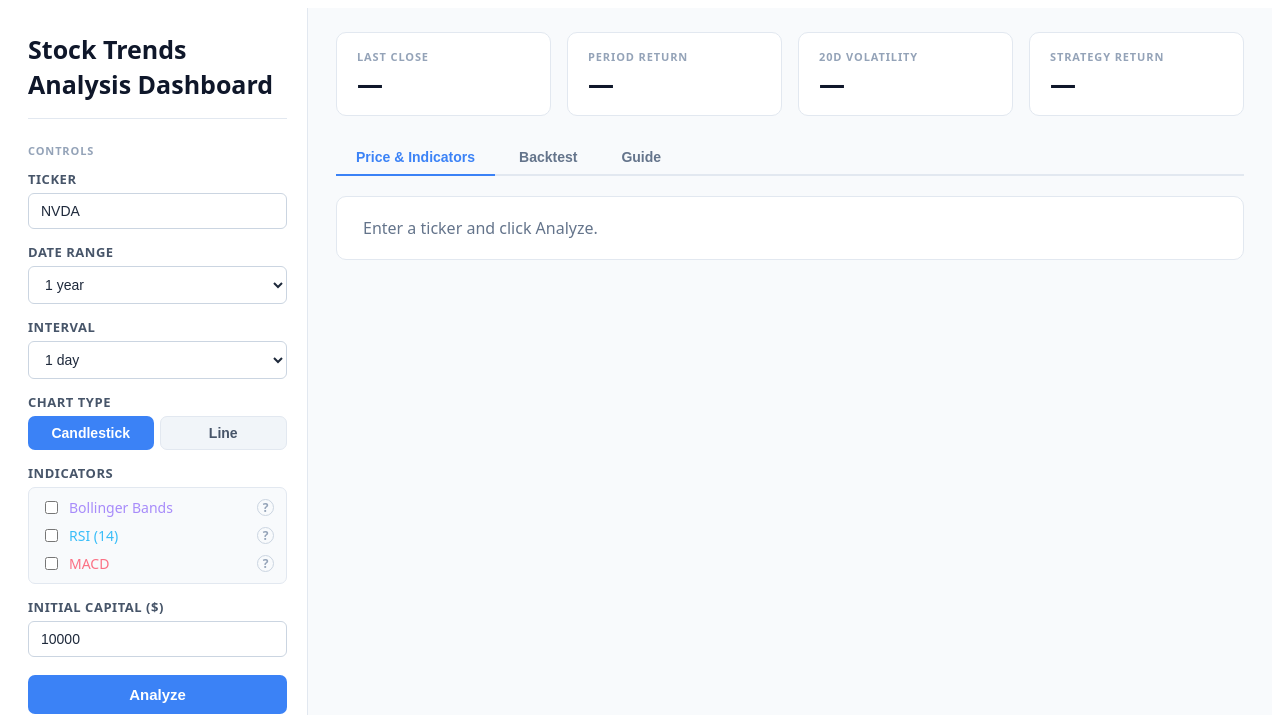
Test: Stock Dashboard Test Suite › switches to guide tab
Click the button "Guide" at (641,158), box left=601, top=140, right=681, bottom=176
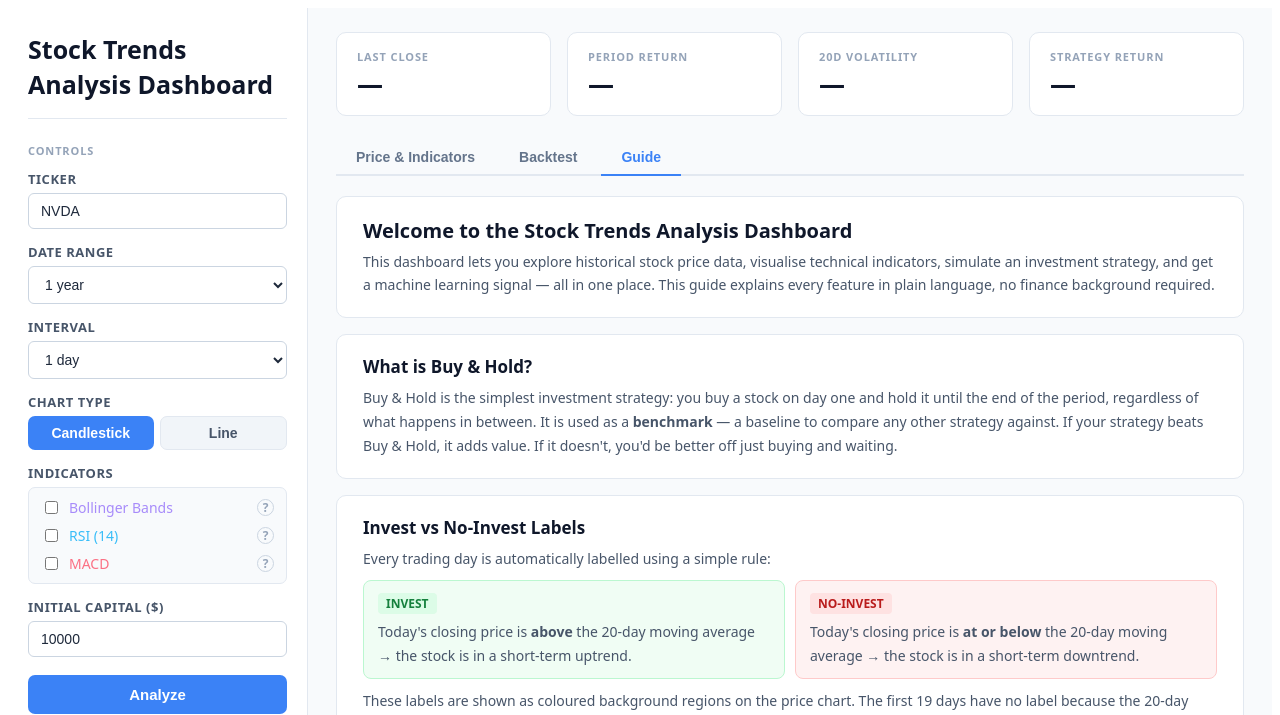
Now the heading "Welcome to the Stock Trends Analysis Dashboard" is shown, box left=363, top=217, right=852, bottom=244
